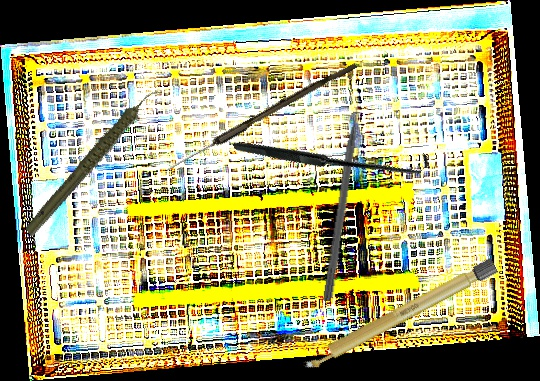Handpiece: (1, 87, 186, 238)
Hook Surgical: (232, 53, 432, 254)
Pusher: (322, 91, 367, 303)
Scalpel Handle: (299, 257, 499, 374)
Surgical Spoon: (164, 58, 358, 176)
